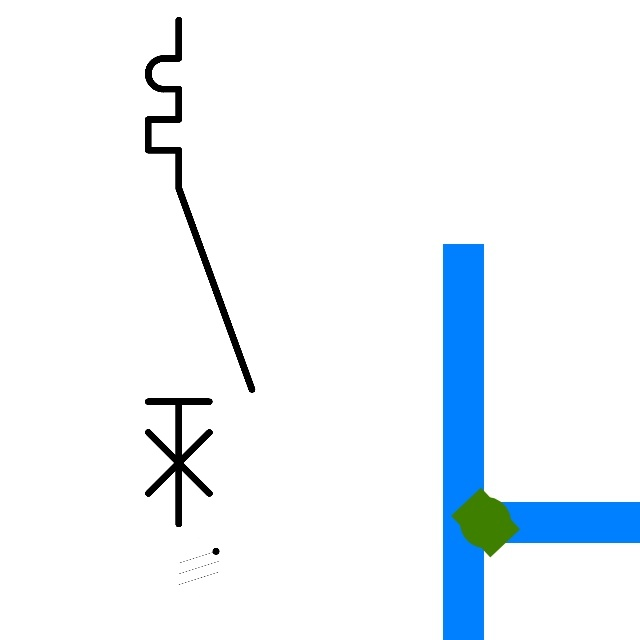interruptor_termomagnetico: (135, 7, 264, 537)
